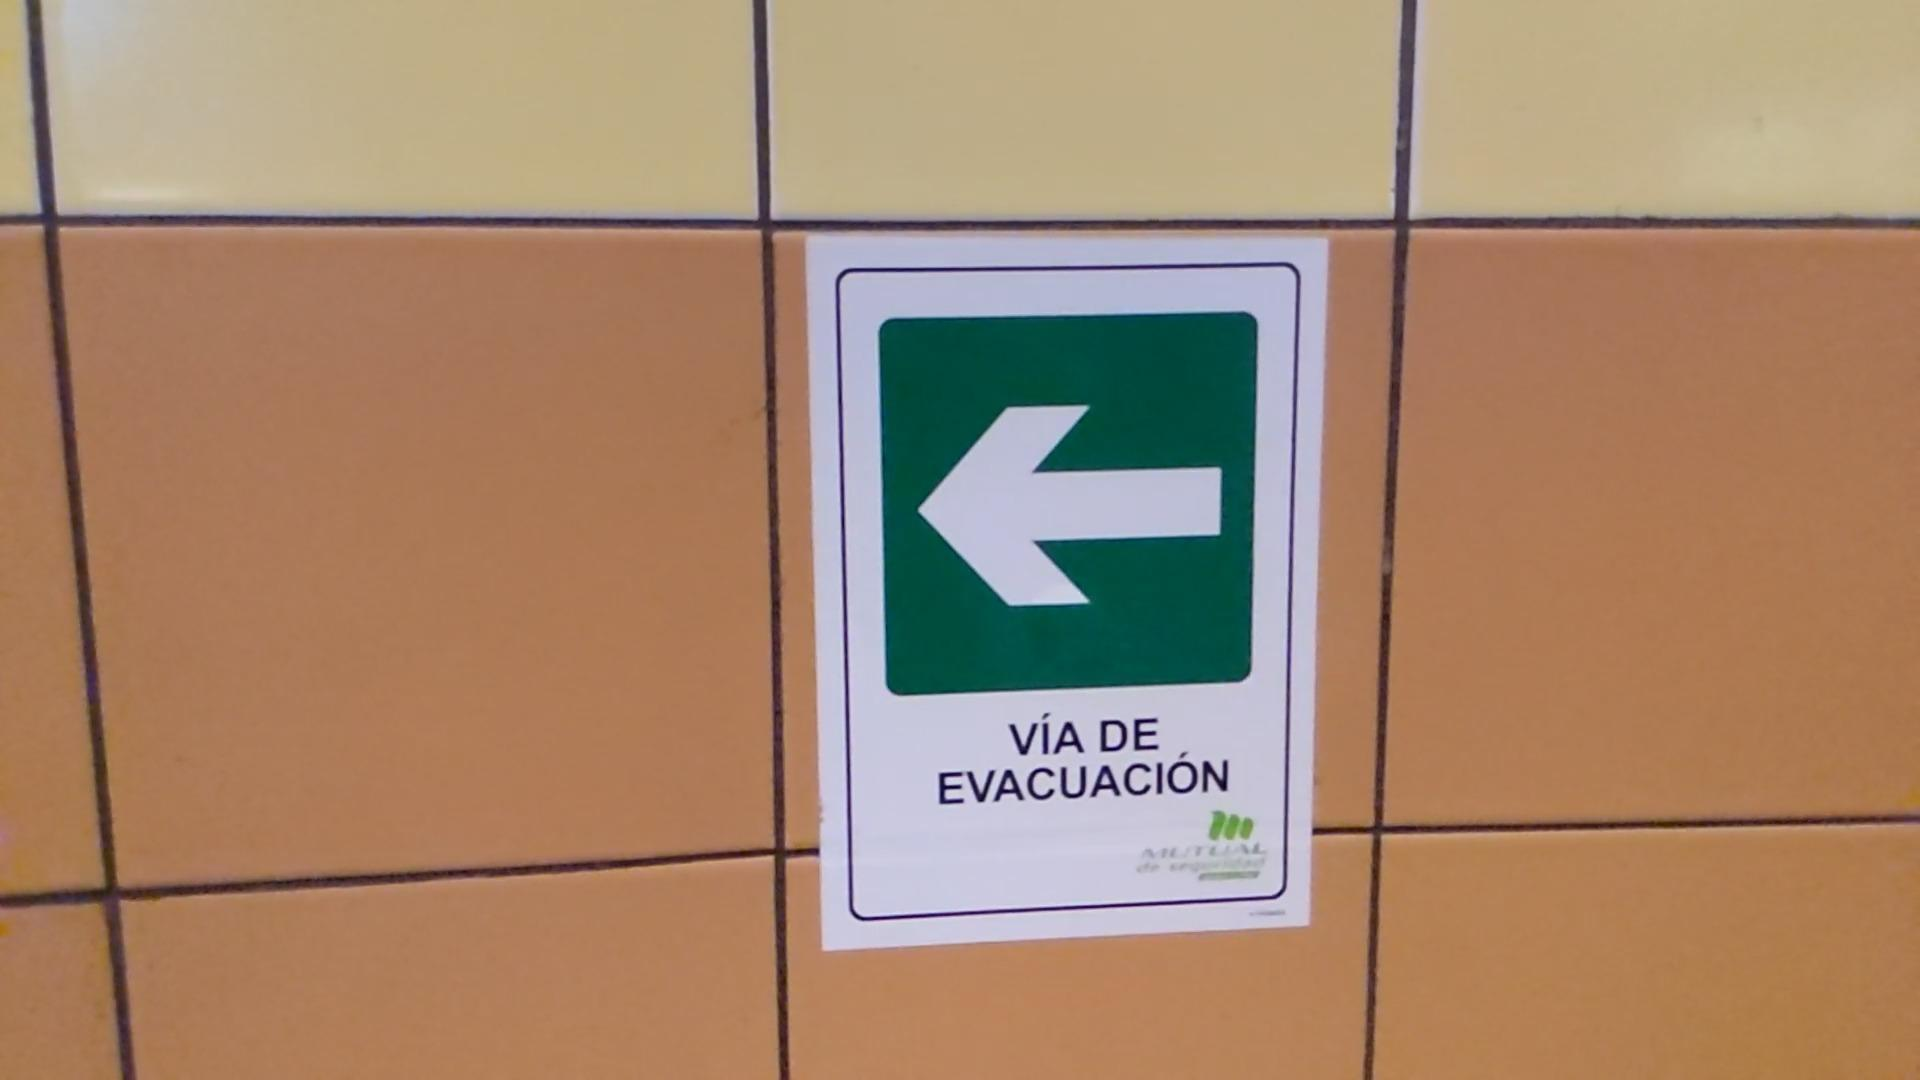emergency left arrow: (913, 397, 1230, 612)
